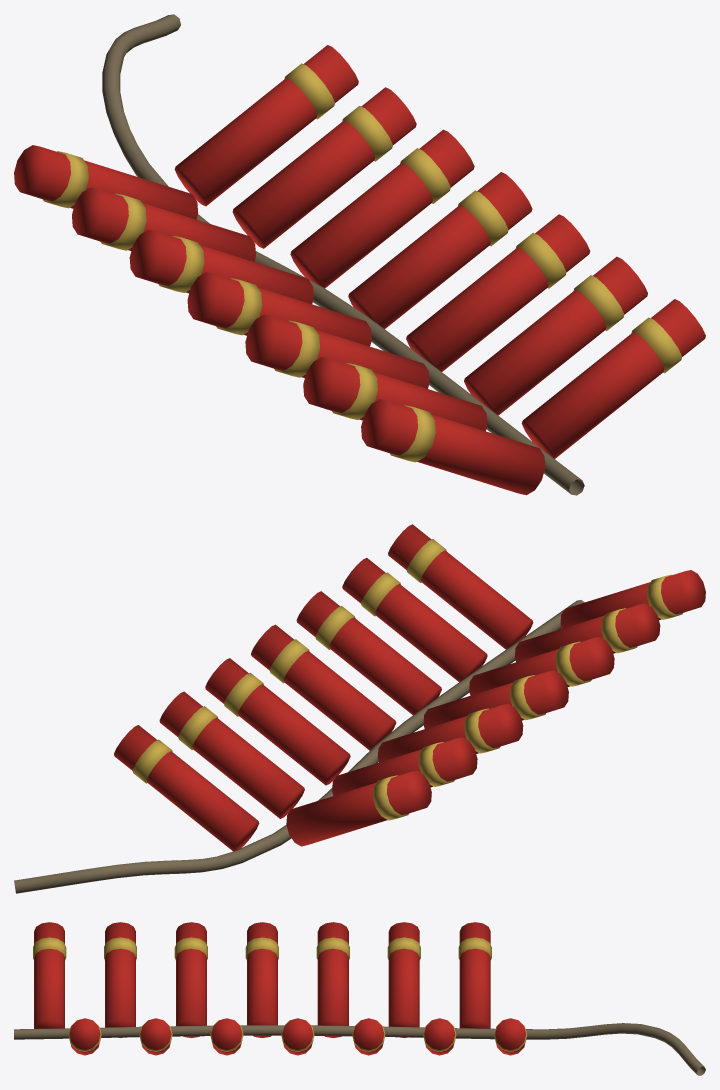
The model's file is cracker.glb.
The picture shows the model from 3 angles, top to bottom: view 1: azimuth 30°, elevation 25°; view 2: azimuth 150°, elevation 25°; view 3: azimuth 270°, elevation 25°; orthographic projection. The views are drawn at different scales.
Visible parts, largest first — view 1: cracker.011, cracker.013, cracker.009, cracker.001, cracker.003, cracker.005, cracker.007, fuse_m, cracker, cracker.006, cracker.008, cracker.010 (+17 smaller); view 2: fuse_m, cracker.011, cracker.013, cracker.009, cracker.001, cracker.007, cracker.003, cracker.005, cracker.012, cracker.004, cracker, cracker.010 (+17 smaller); view 3: fuse_m, cracker.012, cracker.010, cracker.008, cracker, cracker.002, cracker.006, cracker.004, cracker.011, cracker.007, cracker.003, cracker.005 (+10 smaller).
Part boxes in pixels (x1,y1,x2,y2): cracker.011: (232,87,416,248); cracker.013: (174,45,358,206); cracker.009: (290,129,474,288); cracker.001: (521,299,705,458); cracker.003: (464,256,647,415); cracker.005: (406,214,590,371); cracker.007: (348,172,532,328); fuse_m: (102,14,584,495); cracker: (361,399,545,495); cracker.006: (187,272,371,346); cracker.008: (129,229,313,303); cracker.010: (72,187,255,261); fuse_m: (14,600,584,893); cracker.011: (159,691,304,818); cracker.013: (114,725,259,851); cracker.009: (205,658,350,785); cracker.001: (388,524,533,649); cracker.007: (251,624,396,750); cracker.003: (342,558,487,681); cracker.005: (296,591,441,714); cracker.012: (286,770,431,846); cracker.004: (469,637,614,695); cracker: (560,570,705,628); cracker.010: (332,737,477,795); fuse_m: (14,1023,705,1075); cracker.012: (459,922,490,1028); cracker.010: (388,922,419,1037); cracker.008: (317,922,348,1037); cracker: (34,922,64,1028); cracker.002: (105,922,135,1037); cracker.006: (247,922,277,1037); cracker.004: (176,922,206,1037); cracker.011: (424,1018,455,1055); cracker.007: (282,1018,313,1055); cracker.003: (140,1018,171,1055); cracker.005: (211,1018,242,1055).
Bounding box in the file's own units: 0.1157 × 0.0382 × 0.3121.
